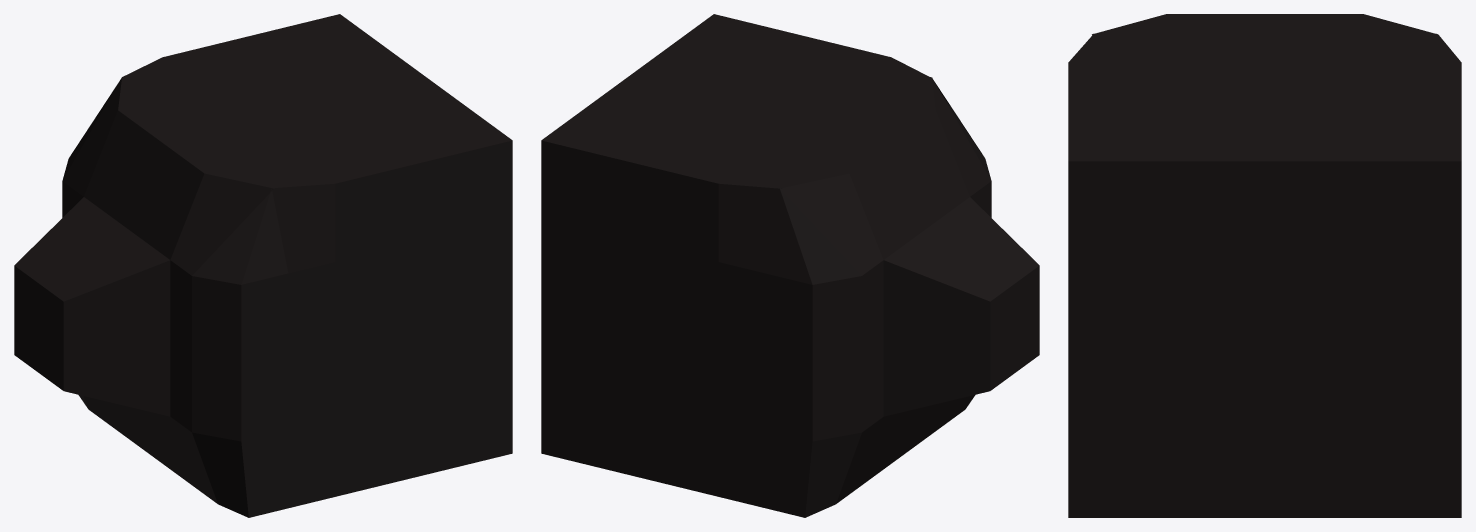
File: Artillery.obj
3 renders of one model, left to right at view 1: azimuth 30°, elevation 25°; view 2: azimuth 150°, elevation 25°; view 3: azimuth 270°, elevation 25°, orthographic. The views are drawn at different scales.
Parts seen in each view (by area): view 1: Cube; view 2: Cube; view 3: Cube.
Boxes of the visible parts, x1=… form: Cube: x1=14, y1=14, x2=512, y2=517; Cube: x1=541, y1=14, x2=1039, y2=517; Cube: x1=1068, y1=14, x2=1461, y2=517.
Bounding box in the file's own units: 2.29 × 1.77 × 1.77.
Materials: 1 (1 with a texture image).
